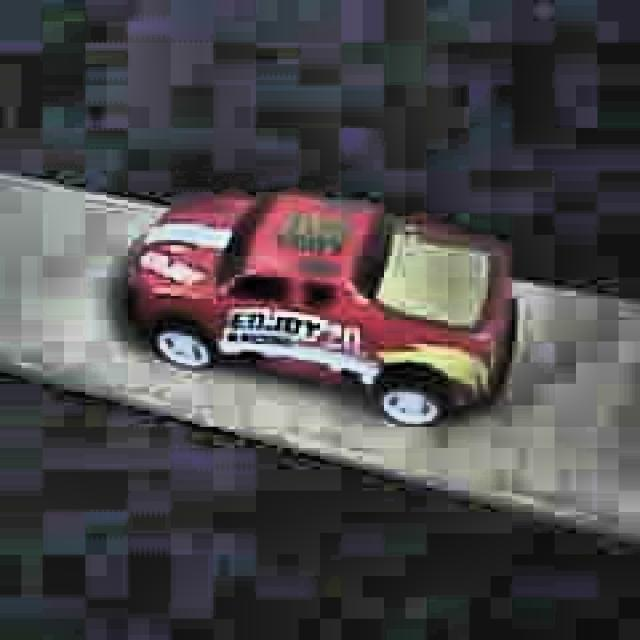car: (123, 184, 522, 431)
